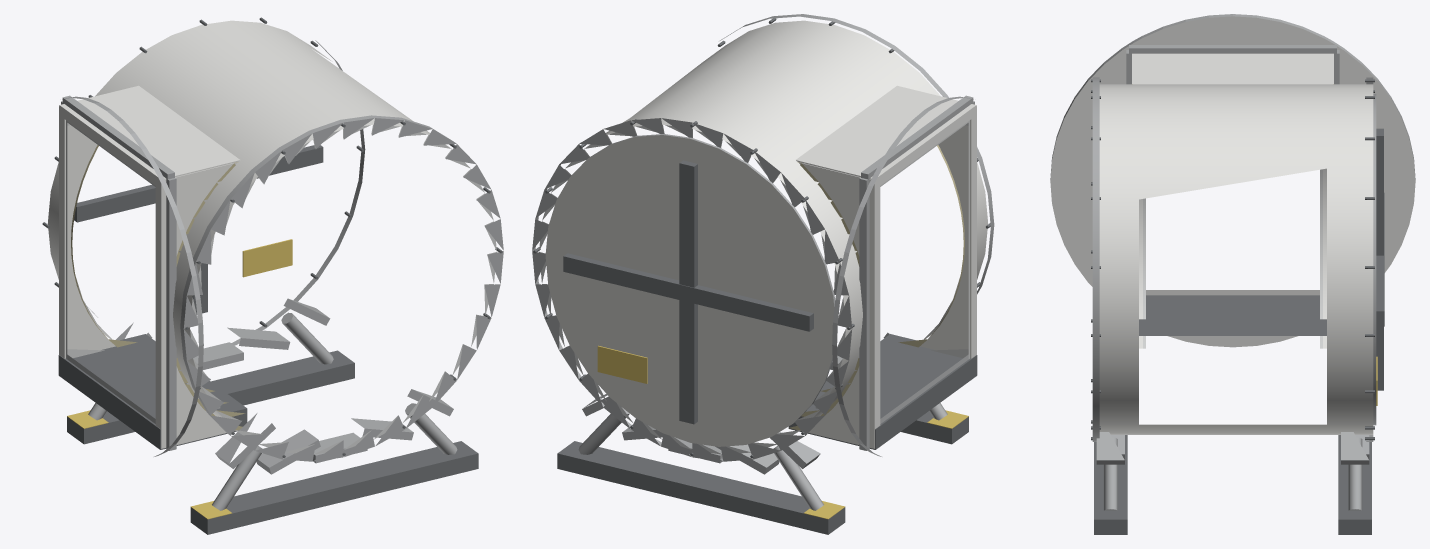
Rendered from habSegJLb_steel.glb.
3 views of the same model, side by side, from view 1: azimuth 30°, elevation 25°; view 2: azimuth 150°, elevation 25°; view 3: azimuth 270°, elevation 25° (orthographic).
Parts seen in each view (by area): view 1: habSegJLb_steel; view 2: habSegJLb_steel; view 3: habSegJLb_steel.
Part boxes in pixels (bbox=[...]): habSegJLb_steel: bbox=[42, 17, 503, 534]; habSegJLb_steel: bbox=[532, 14, 994, 534]; habSegJLb_steel: bbox=[1050, 14, 1415, 534].
Bounding box in the file's own units: 2.65 × 2.95 × 2.6.
